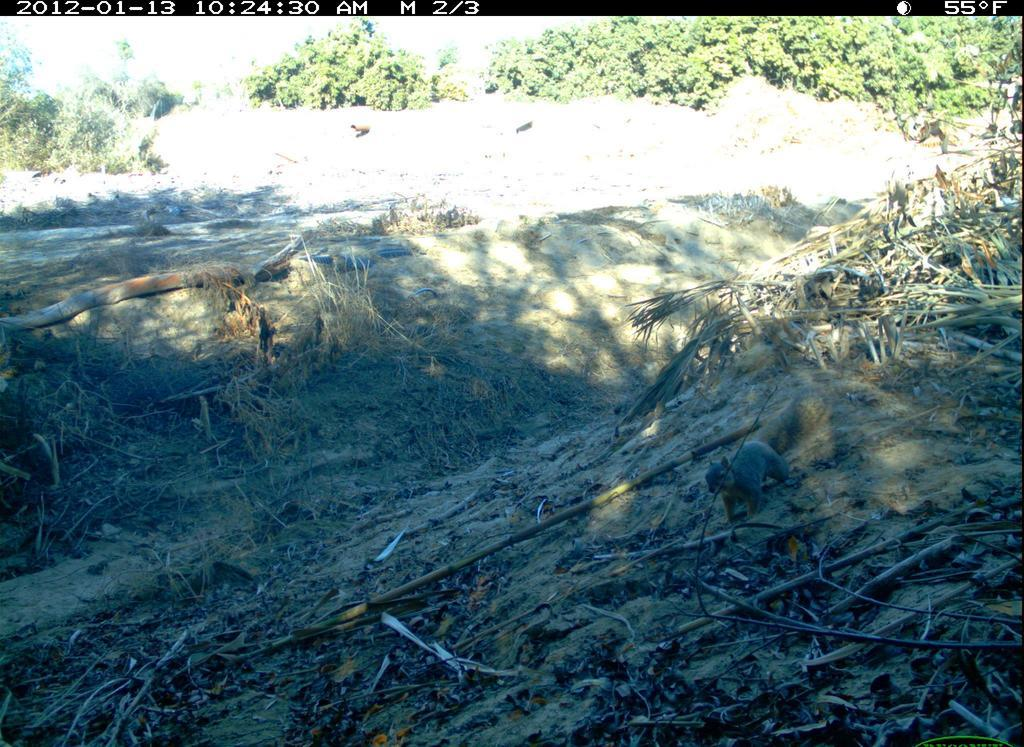squirrel: (701, 383, 833, 527)
